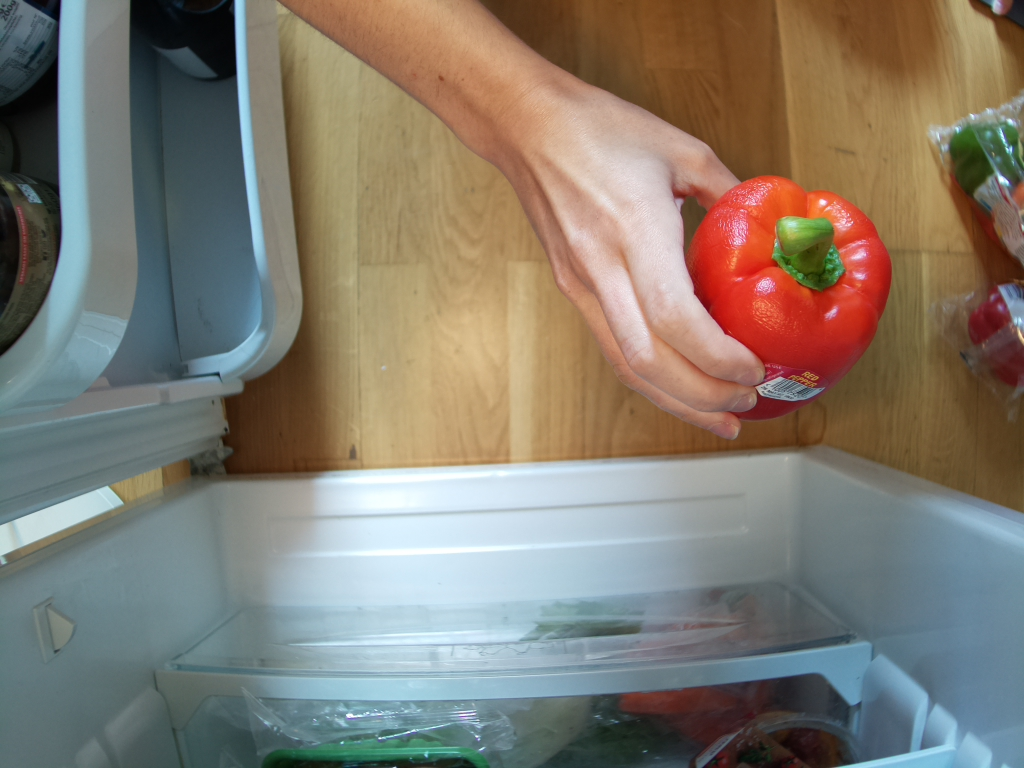pepper-bad: (692, 172, 894, 425)
